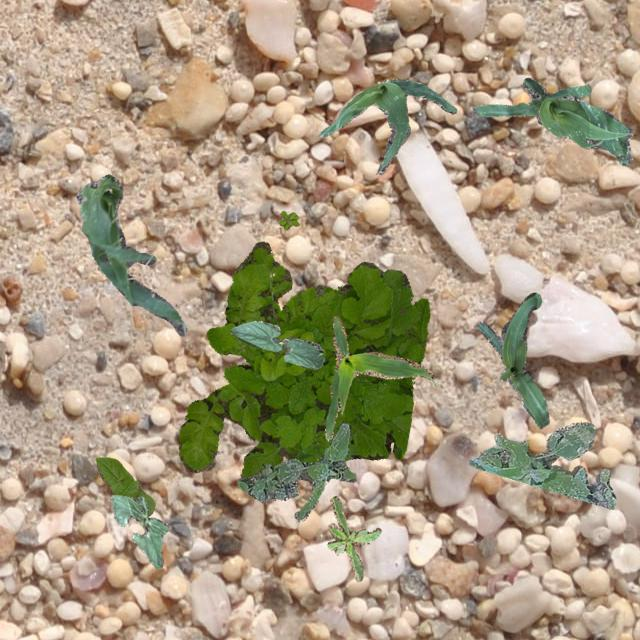crop: (76, 173, 186, 334), (472, 76, 632, 165), (324, 316, 434, 440), (318, 78, 456, 174), (476, 292, 548, 428), (230, 320, 324, 368), (110, 493, 168, 568), (94, 456, 154, 516)
weed: (178, 242, 428, 478), (468, 422, 616, 508), (236, 422, 354, 520), (326, 494, 381, 580), (278, 210, 298, 228)
